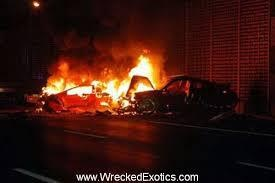fire: (41, 50, 162, 108)
